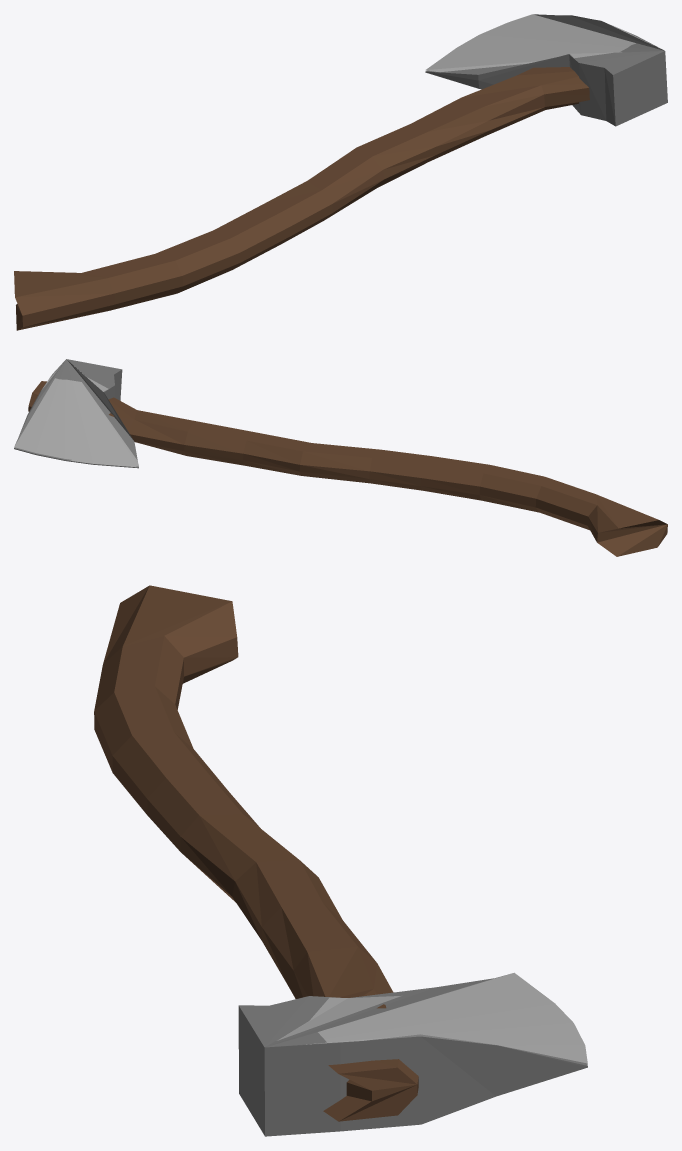
Rendered from AXEL.fbx.
The picture shows the model from 3 angles, top to bottom: view 1: azimuth 30°, elevation 25°; view 2: azimuth 150°, elevation 25°; view 3: azimuth 270°, elevation 25°; orthographic projection. The views are drawn at different scales.
Visible parts, largest first — view 1: polySurface6; view 2: polySurface6; view 3: polySurface6.
Part boxes in pixels (x1,y1,x2,y2): polySurface6: (14,14,667,330); polySurface6: (14,359,667,556); polySurface6: (94,585,587,1136).
Size of the model in its own units: 12.07 by 1.45 by 4.5.
